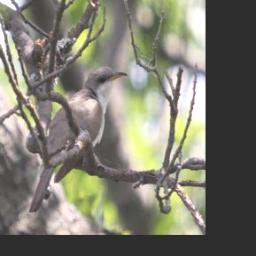Cuckoo: (29, 61, 129, 217)
